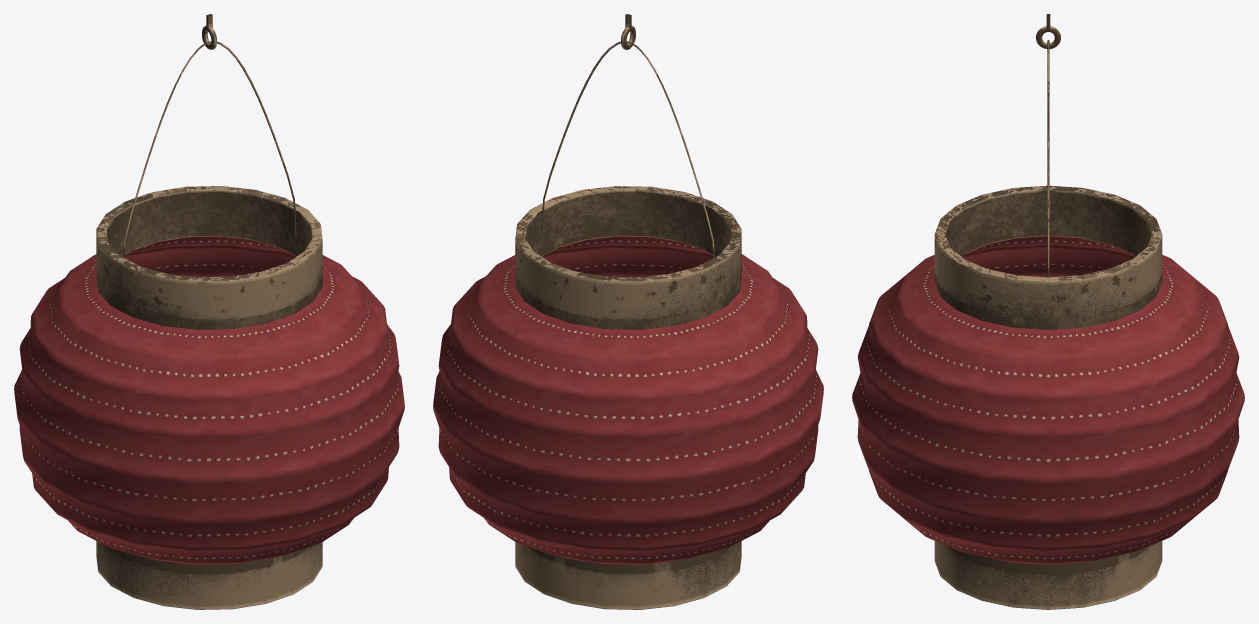
The model's file is chochin-lantern.glb.
3 views of the same model, side by side, from view 1: azimuth 30°, elevation 25°; view 2: azimuth 150°, elevation 25°; view 3: azimuth 270°, elevation 25° (orthographic).
Parts seen in each view (by area): view 1: LIGHt; view 2: LIGHt; view 3: LIGHt.
Part boxes in pixels (x1,y1,x2,y2): LIGHt: (14,14,404,609); LIGHt: (433,14,823,609); LIGHt: (852,14,1244,609).
Bounding box in the file's own units: 0.6506 × 1 × 0.6506.
Materials: 1 (1 with a texture image).
